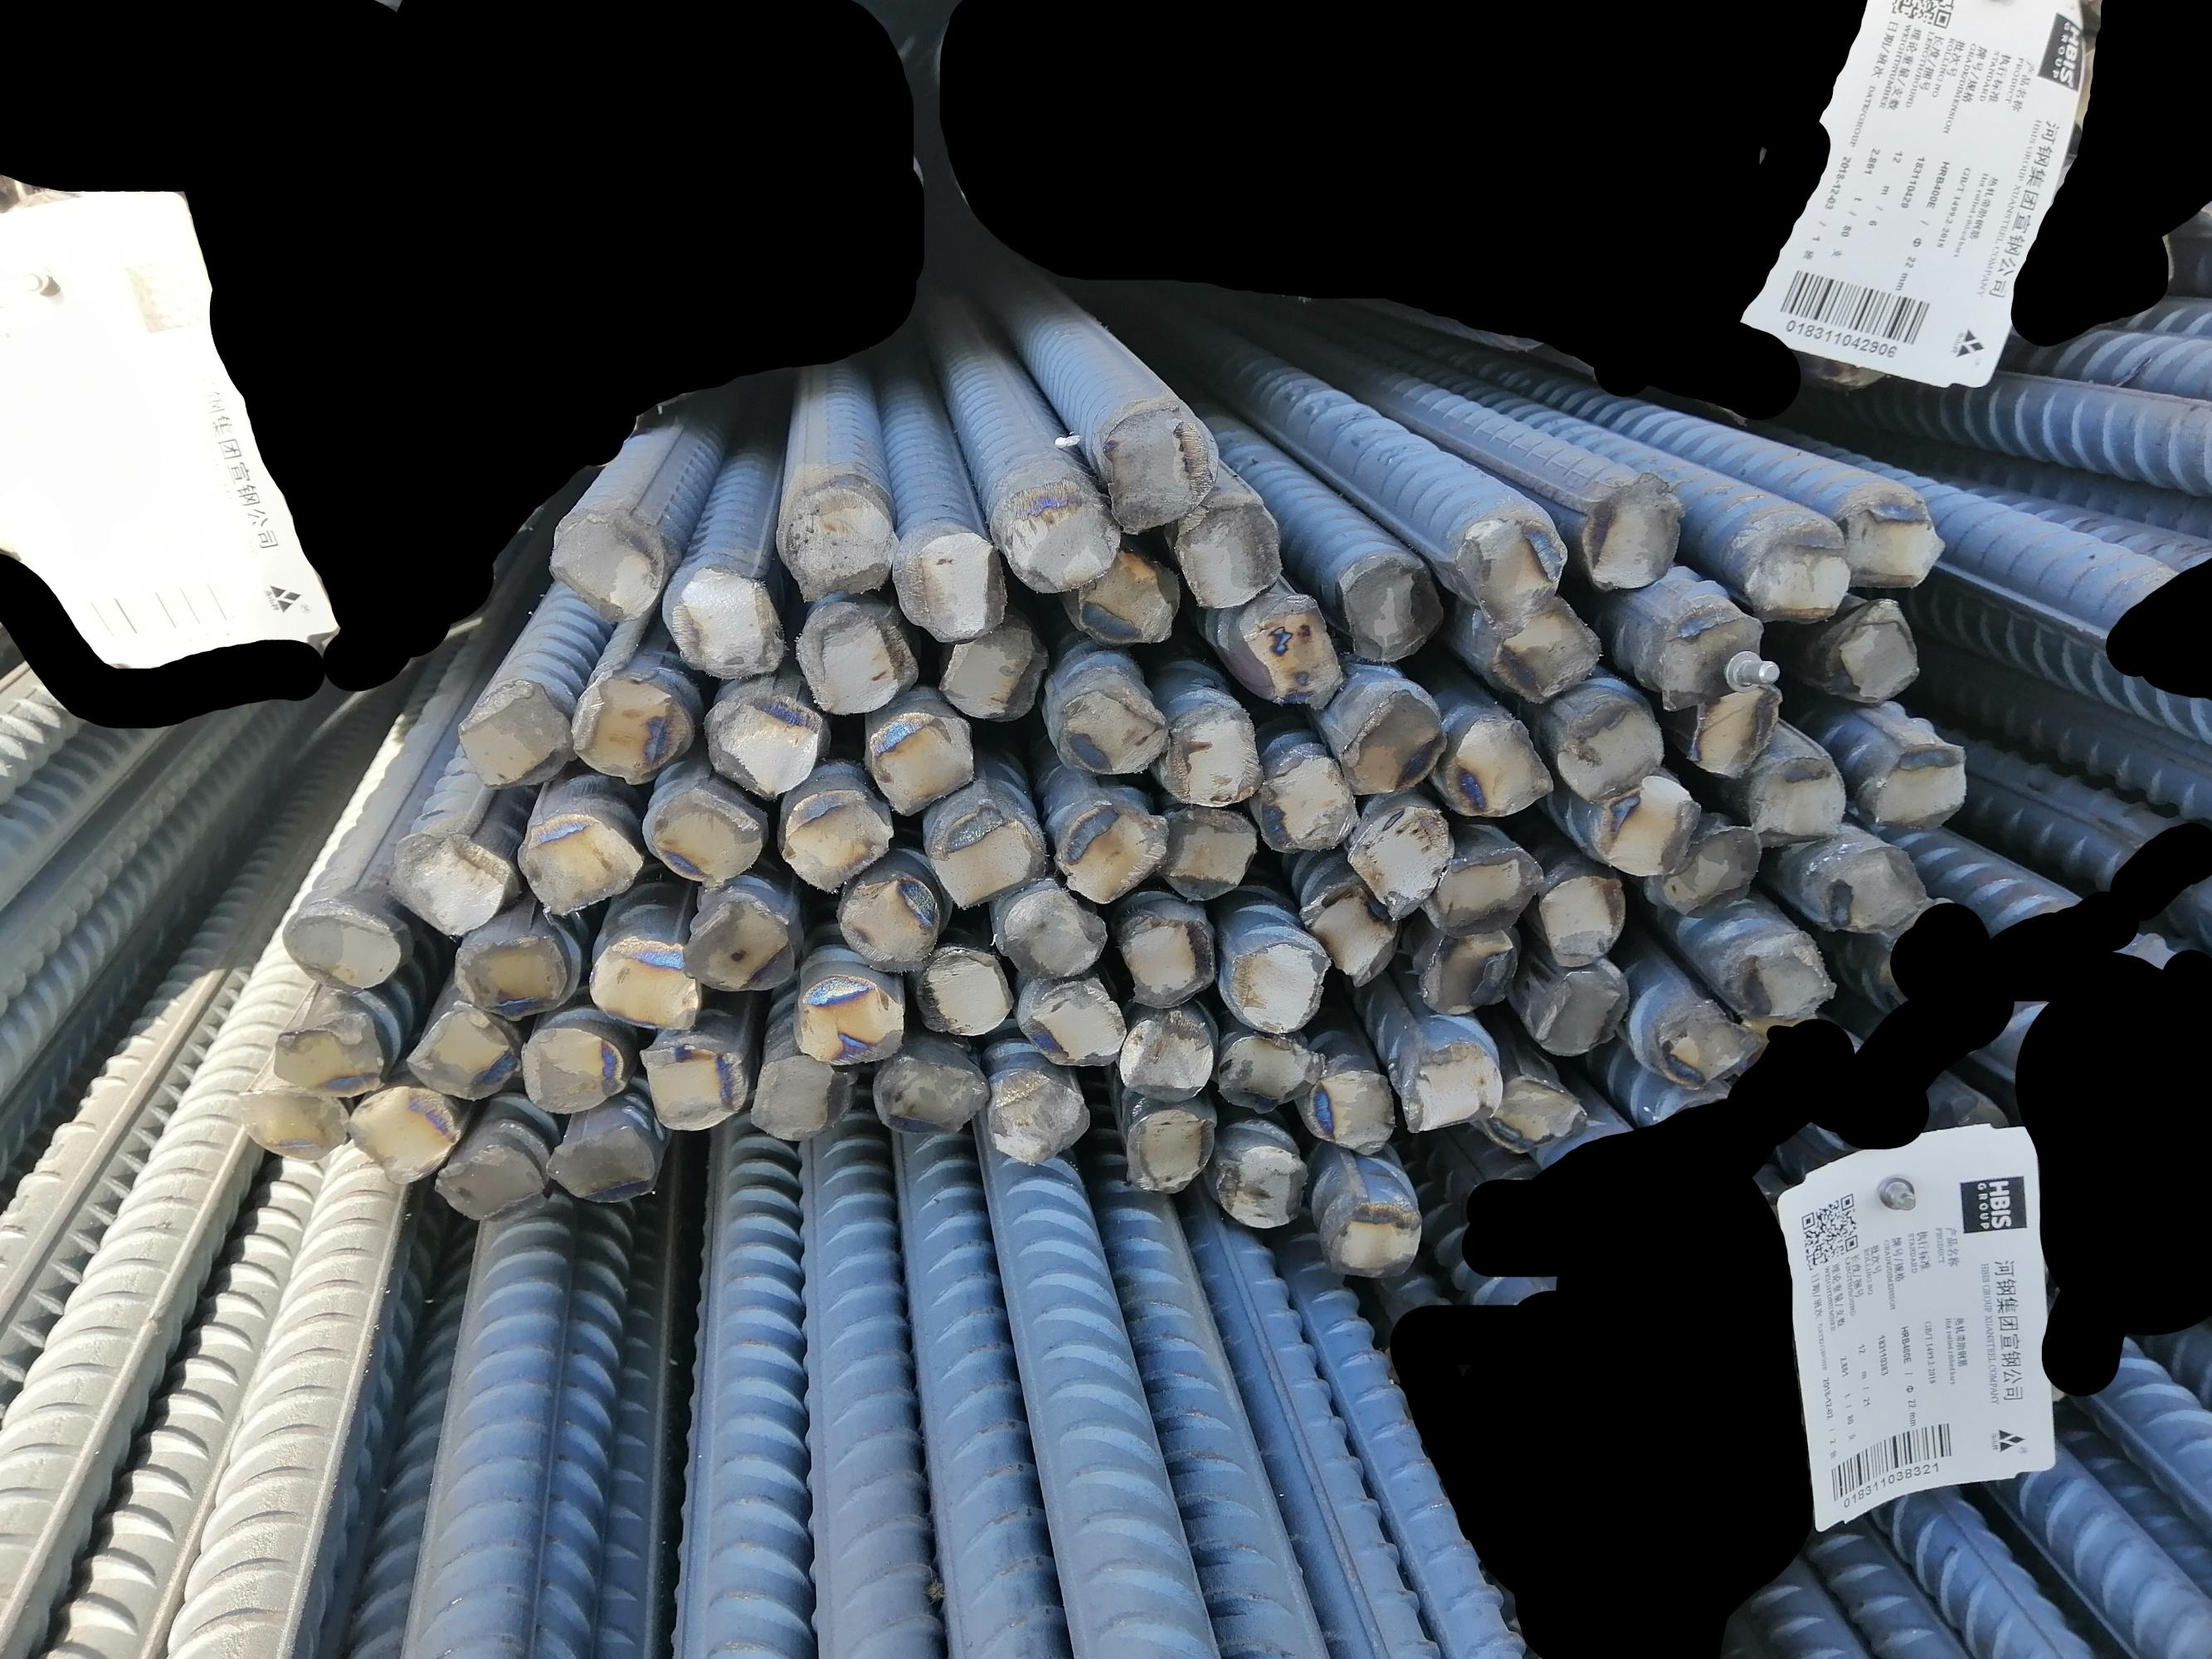bar: (657, 556, 788, 680), (791, 596, 922, 720), (561, 666, 697, 784), (1100, 408, 1224, 537), (546, 500, 668, 626), (1578, 467, 1698, 592), (777, 479, 898, 603), (640, 777, 767, 892), (514, 805, 643, 918), (774, 777, 894, 897), (450, 676, 573, 793), (383, 829, 512, 941), (699, 683, 819, 800), (891, 526, 1006, 643), (1457, 512, 1572, 629), (1346, 803, 1457, 922), (1489, 592, 1607, 704), (1177, 493, 1286, 612), (981, 1054, 1093, 1169), (582, 925, 699, 1035), (1333, 551, 1447, 662), (1550, 695, 1665, 805), (680, 885, 798, 992), (1745, 514, 1856, 626), (1002, 495, 1123, 598), (865, 709, 976, 819), (1424, 840, 1550, 938), (931, 805, 1044, 913), (349, 1080, 458, 1190), (1058, 796, 1170, 904), (1340, 685, 1447, 798), (401, 1004, 518, 1105), (934, 622, 1055, 720), (1243, 598, 1347, 709), (1438, 716, 1555, 816), (281, 903, 403, 997), (1659, 605, 1764, 713), (865, 1047, 990, 1136), (833, 875, 941, 978), (512, 1019, 628, 1115), (1839, 488, 1944, 592), (1161, 702, 1267, 805), (1056, 678, 1166, 777), (1726, 924, 1837, 1021), (1154, 800, 1259, 903), (1401, 1035, 1506, 1138), (1815, 840, 1928, 934), (1227, 936, 1330, 1039), (1248, 748, 1347, 854), (1593, 779, 1700, 878), (1525, 957, 1632, 1056), (997, 884, 1105, 981), (1013, 974, 1124, 1068), (455, 929, 570, 1019), (1658, 824, 1764, 922), (913, 939, 1016, 1039), (537, 1126, 659, 1209), (638, 1037, 744, 1133), (793, 972, 901, 1066), (1117, 911, 1218, 1011), (1687, 680, 1783, 782), (431, 1141, 547, 1225), (230, 1080, 349, 1162), (1299, 880, 1393, 983), (751, 1054, 854, 1147), (1077, 554, 1180, 647), (1417, 922, 1520, 1014), (270, 1014, 383, 1098), (1835, 596, 1923, 704), (1747, 753, 1846, 847), (1116, 1012, 1213, 1107), (1483, 1072, 1590, 1157), (1213, 1138, 1307, 1234), (1870, 737, 1968, 829), (1220, 1030, 1323, 1117), (1121, 1100, 1213, 1195), (1327, 1194, 1422, 1281), (1537, 871, 1625, 967), (1661, 995, 1748, 1091), (1306, 1068, 1398, 1157)
